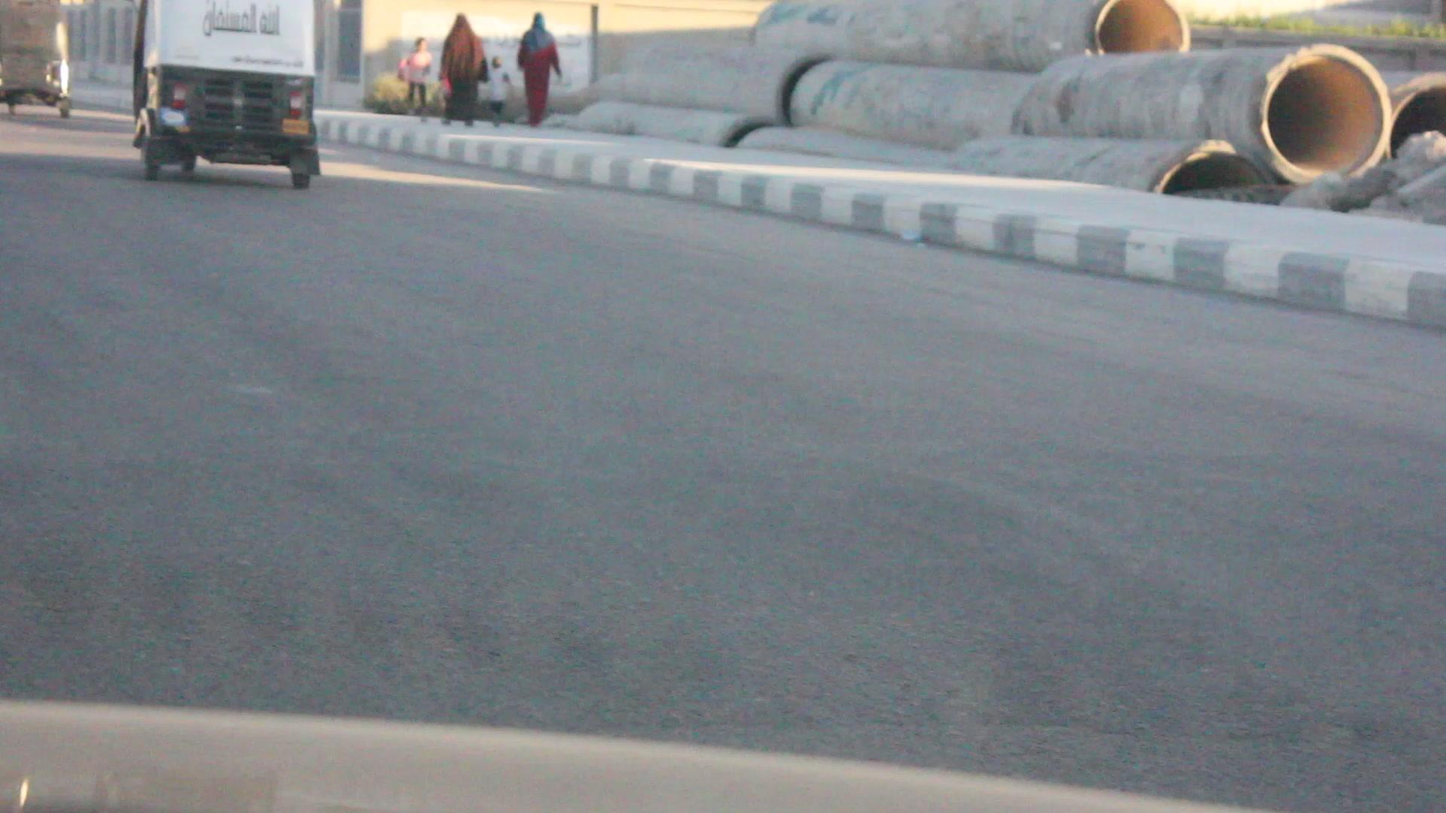Bump: (0, 378, 1445, 728)
